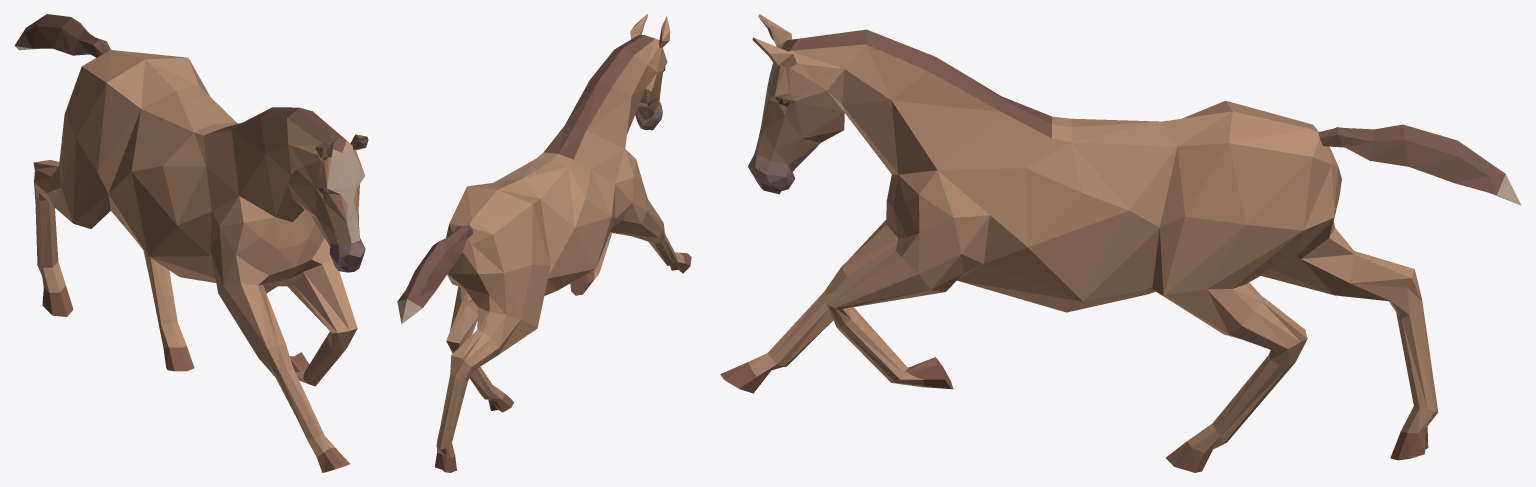
The model's file is Horse.glb.
3 renders of one model, left to right at view 1: azimuth 30°, elevation 25°; view 2: azimuth 150°, elevation 25°; view 3: azimuth 270°, elevation 25°, orthographic. The views are drawn at different scales.
Visible parts, largest first — view 1: mesh_0; view 2: mesh_0; view 3: mesh_0.
Part boxes in pixels (<box>): mesh_0: <box>14,14,368,472</box>; mesh_0: <box>397,14,691,472</box>; mesh_0: <box>720,14,1521,472</box>.
Bounding box in the file's own units: 60.73 × 177 × 290.
